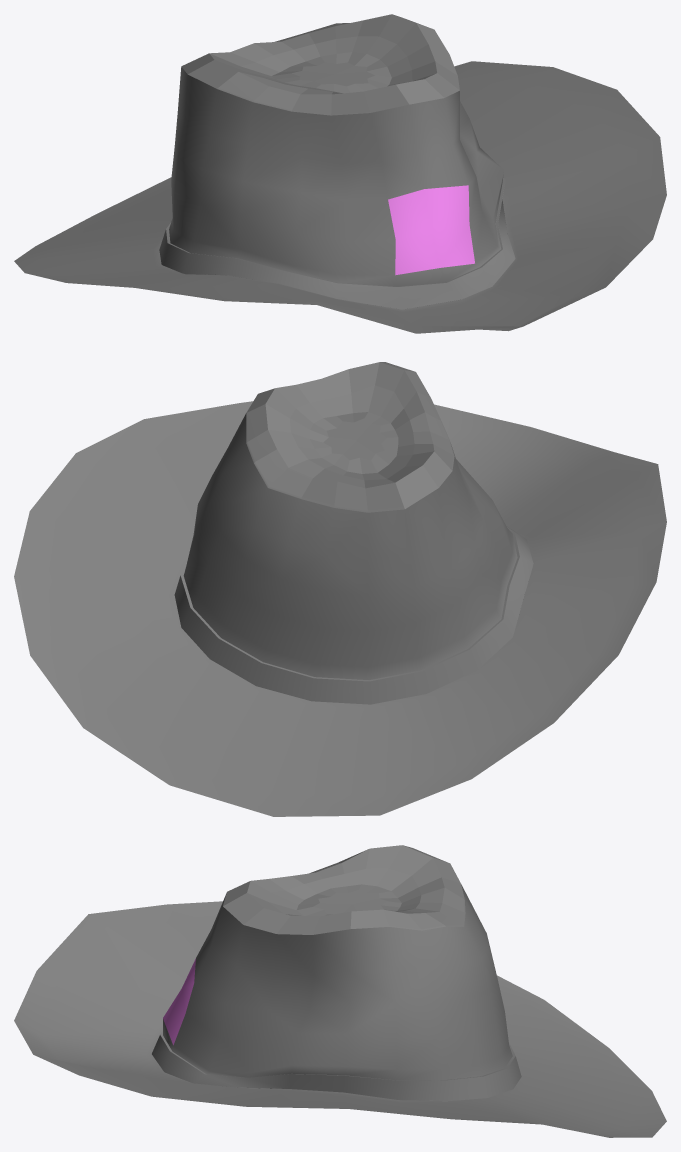
File: Hat.FBX
3 renders of one model, top to bottom at view 1: azimuth 30°, elevation 25°; view 2: azimuth 150°, elevation 25°; view 3: azimuth 270°, elevation 25°, orthographic. The views are drawn at different scales.
Visible parts, largest first — view 1: hat_group1; view 2: hat_group1; view 3: hat_group1.
Boxes of the visible parts, bbox=[...] form: hat_group1: bbox=[14, 14, 666, 333]; hat_group1: bbox=[14, 362, 666, 816]; hat_group1: bbox=[14, 845, 666, 1137].
Bounding box in the file's own units: 45.65 × 21.59 × 50.7.
